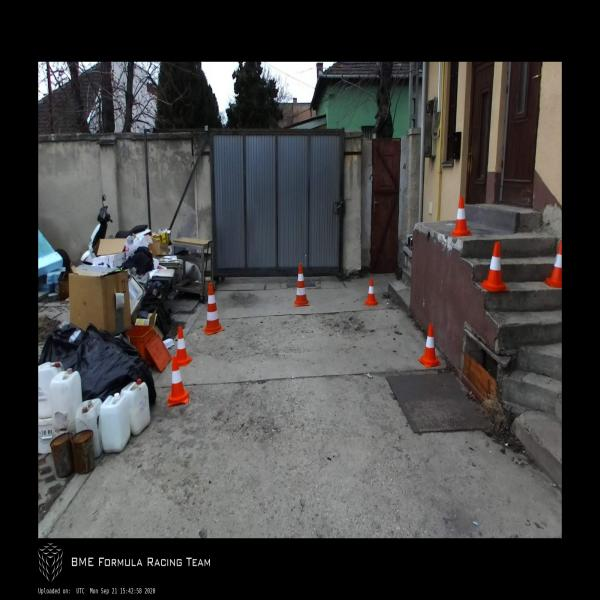large_orange_cone: (202, 282, 224, 336), (294, 264, 309, 306)
orange_cone: (480, 241, 510, 292), (167, 357, 189, 405), (418, 324, 442, 368), (543, 240, 562, 289), (451, 197, 472, 236), (172, 326, 192, 366), (363, 278, 379, 306)
